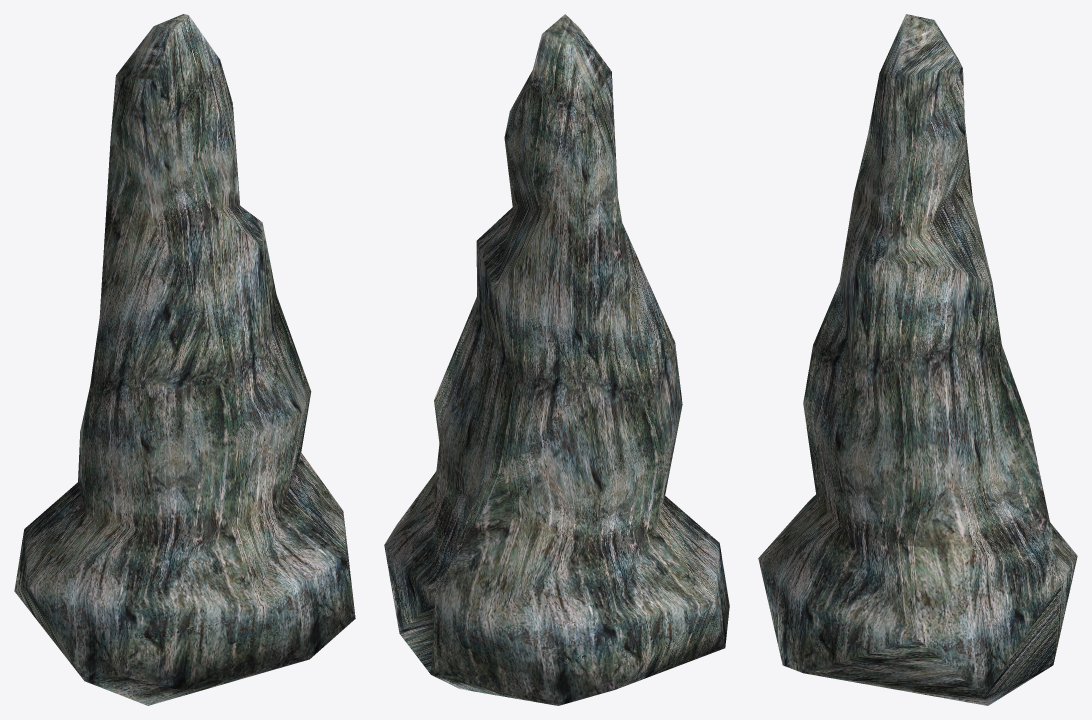
Rendered from rock_dath_desertcanyon_lg_a1_l1.fbx.
3 views of the same model, side by side, from view 1: azimuth 30°, elevation 25°; view 2: azimuth 150°, elevation 25°; view 3: azimuth 270°, elevation 25° (orthographic).
Parts seen in each view (by area): view 1: mesh_node; view 2: mesh_node; view 3: mesh_node.
Boxes of the visible parts, <box> form: mesh_node: <box>14,14,355,705</box>; mesh_node: <box>384,14,729,705</box>; mesh_node: <box>758,14,1077,705</box>.
Size of the model in its own units: 9.17 by 18.25 by 7.99.
